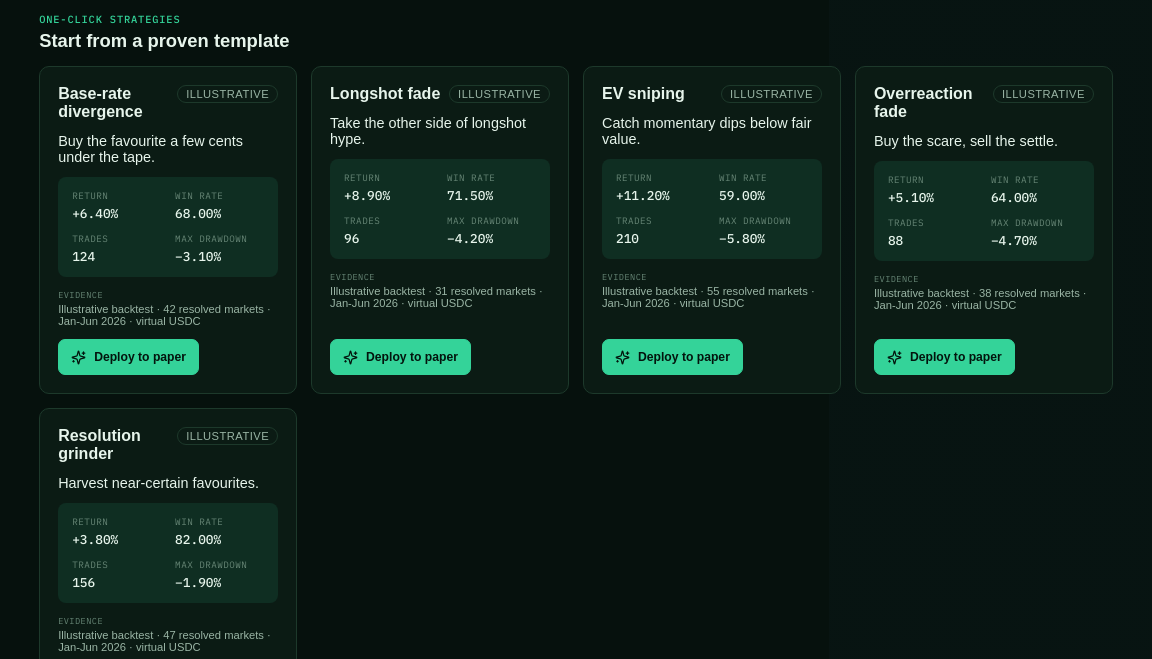
Test: PaperWorkspace strategy templates › arms the template and pre-fills the search on deploy
(page scrolled)
Click the button "Deploy to paper" below "96" at (401, 357), box [330,339,471,375]
(page scrolled)
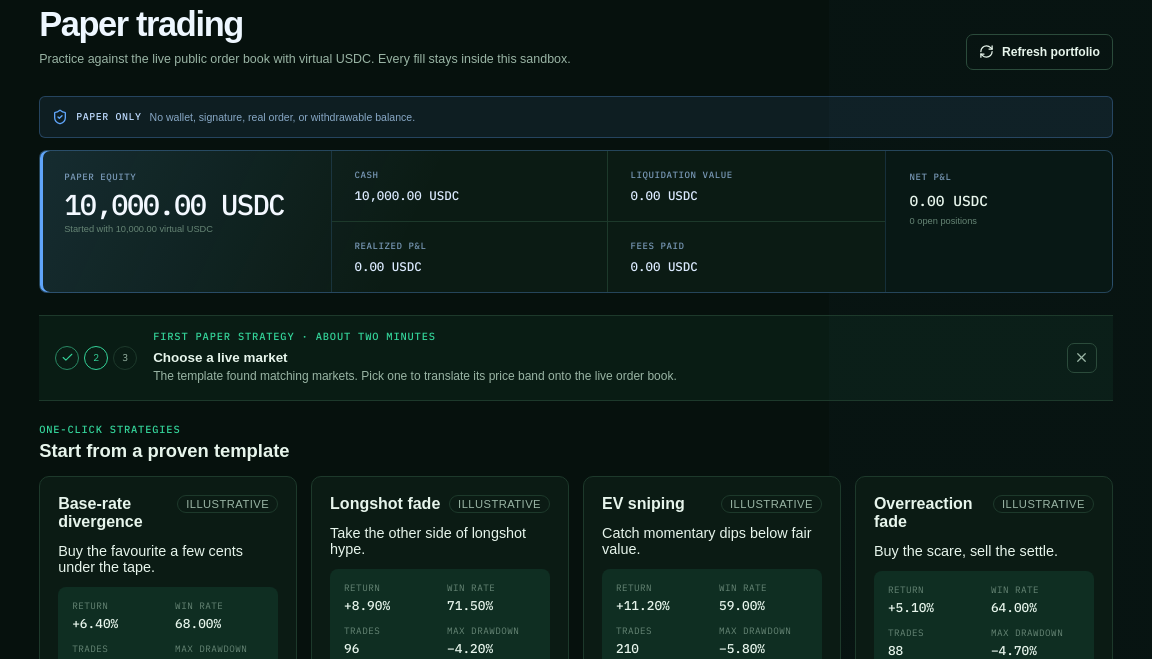
Expected: the element named "First paper strategy guide" shows "Choose a live market", [153,350,288,365]
